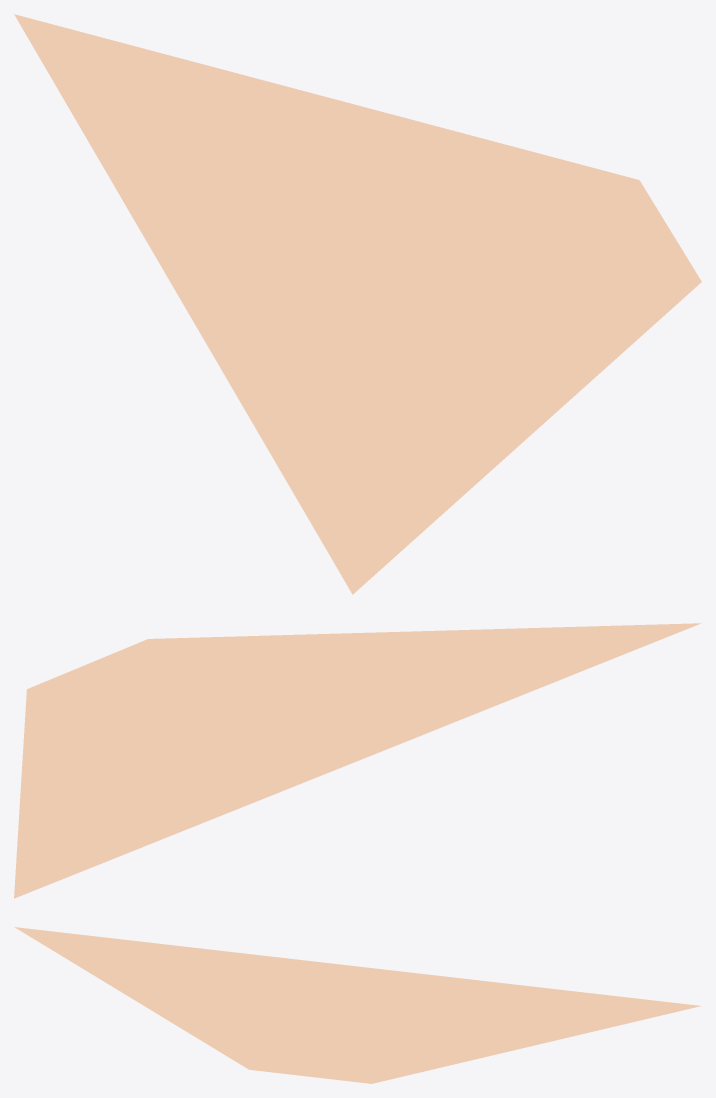
The model's file is lava_plaza.glb.
3 views of the same model, one above another, from view 1: azimuth 30°, elevation 25°; view 2: azimuth 150°, elevation 25°; view 3: azimuth 270°, elevation 25° (orthographic). The views are drawn at different scales.
Parts seen in each view (by area): view 1: LavaPlaza; view 2: LavaPlaza; view 3: LavaPlaza.
Part boxes in pixels (x1,y1,x2,y2): LavaPlaza: (14,14,701,594); LavaPlaza: (14,623,700,898); LavaPlaza: (15,927,699,1083).
Bounding box in the file's own units: 12.65 × 0.1558 × 23.13.
